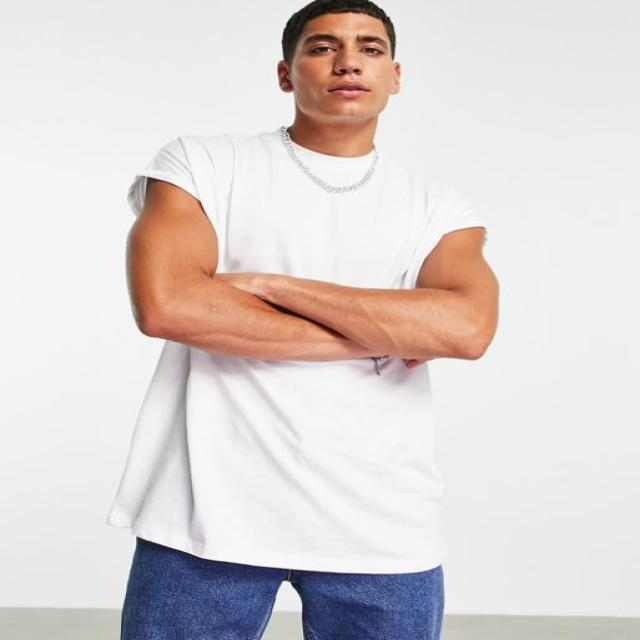tshirt: (107, 126, 488, 573)
